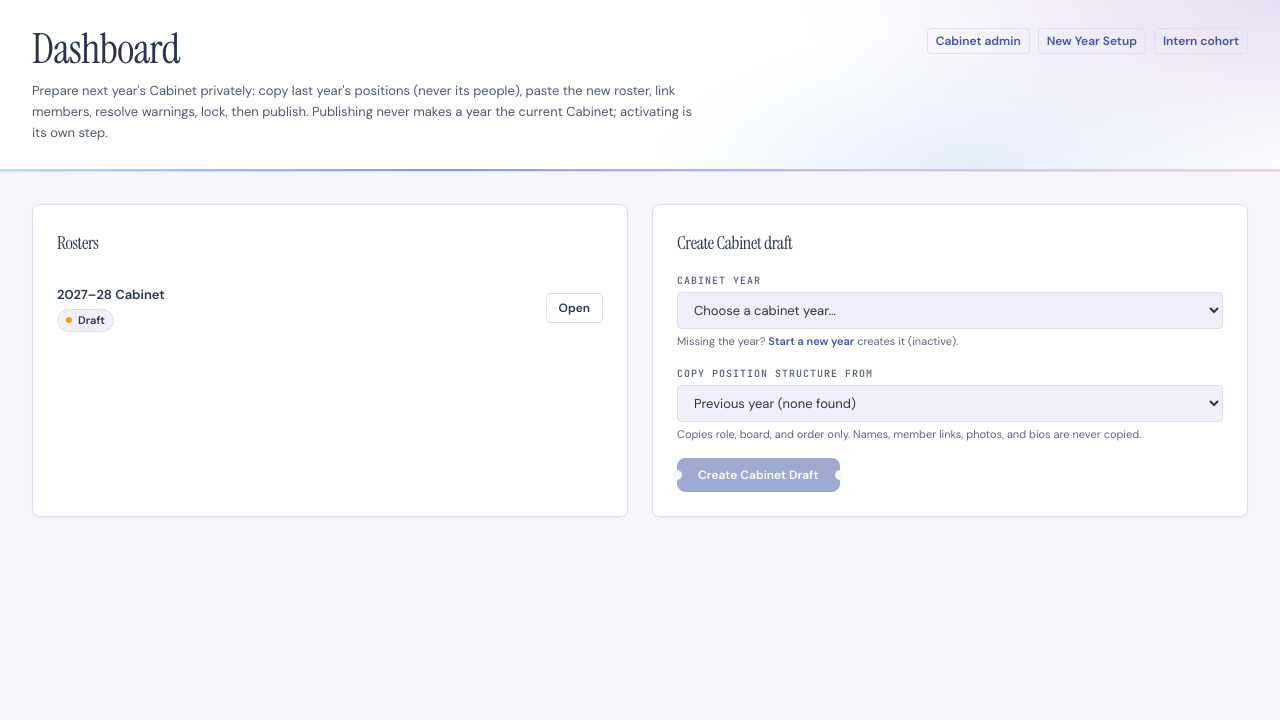
Test: does not offer activation before the roster is published
Click the button "Open": (574, 308) [546,293,603,323]
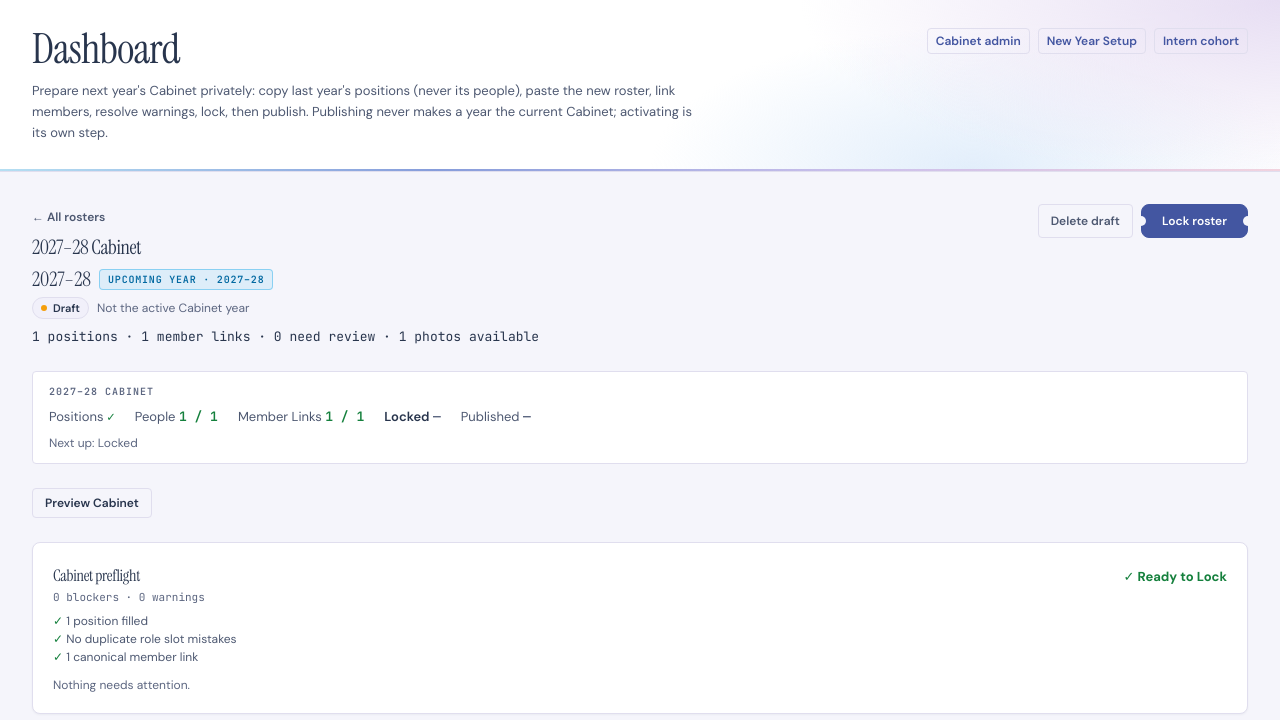
Check: the heading "2027–28 Cabinet" is shown, box [32,234,141,260]
